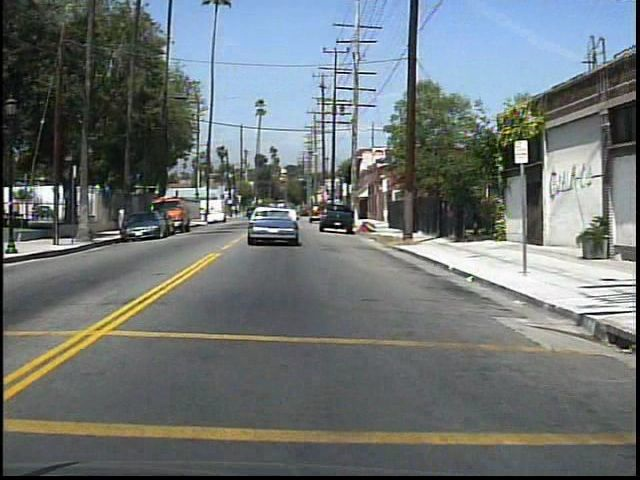person: (79, 197, 93, 226), (29, 199, 45, 224), (118, 202, 127, 232)
